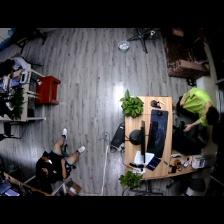normal: (38, 128, 85, 182), (177, 89, 219, 132), (3, 56, 32, 71)
